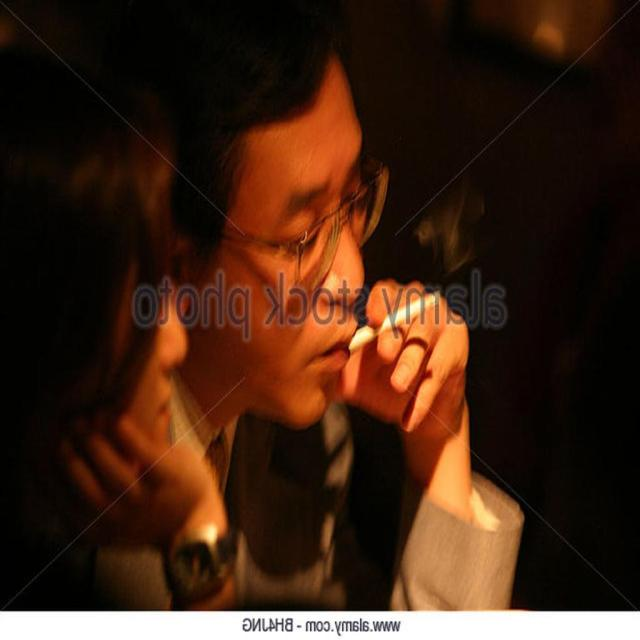smoking: (213, 5, 506, 467)
